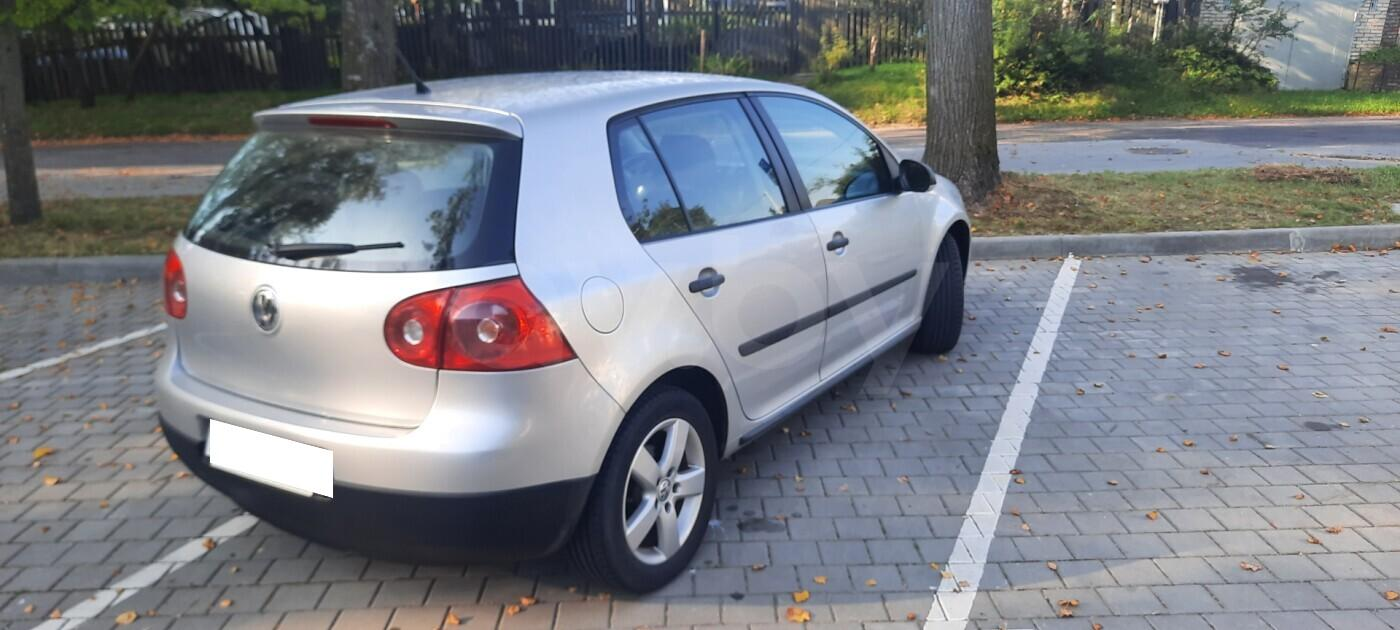Golf_2003-2009: (145, 62, 979, 573)
